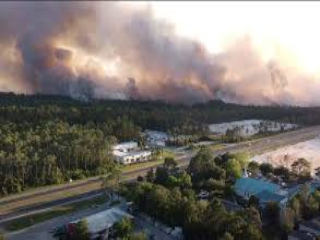smoke: (124, 16, 311, 110), (5, 35, 121, 109)
